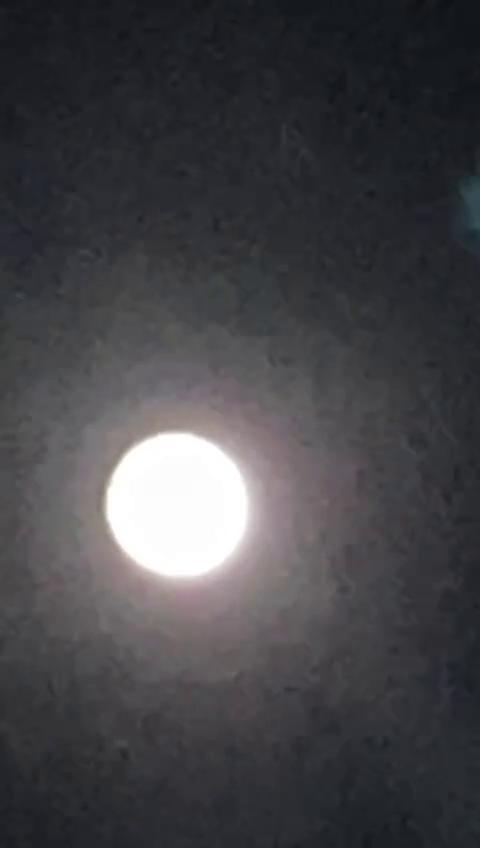moon: (93, 396, 272, 587)
